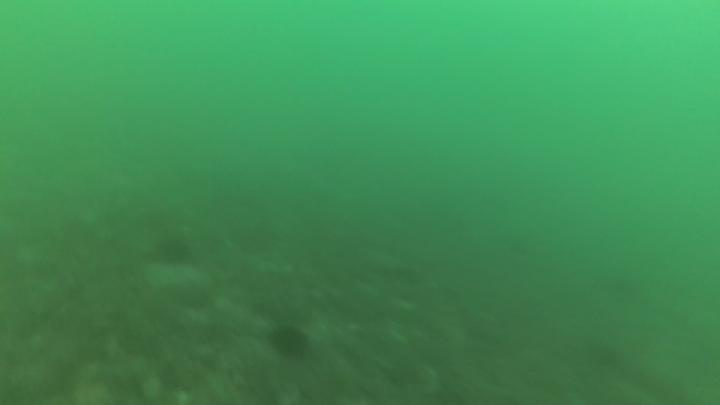echinus: (266, 322, 316, 363), (150, 235, 195, 270)
